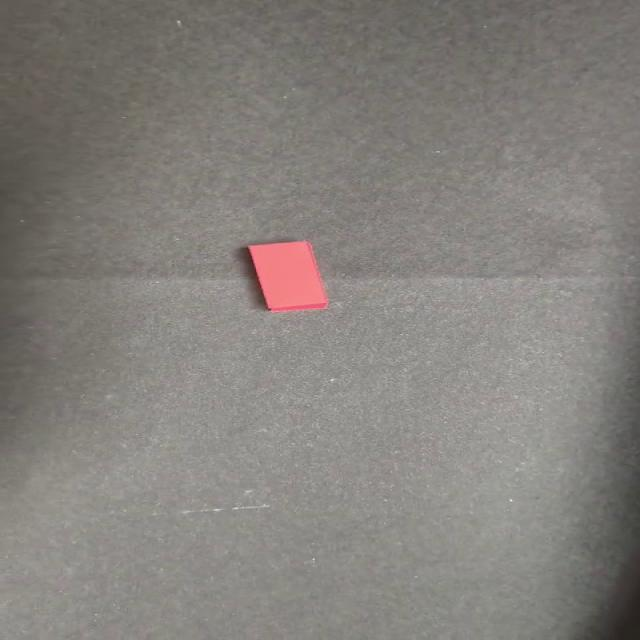red block: (245, 239, 328, 312)
